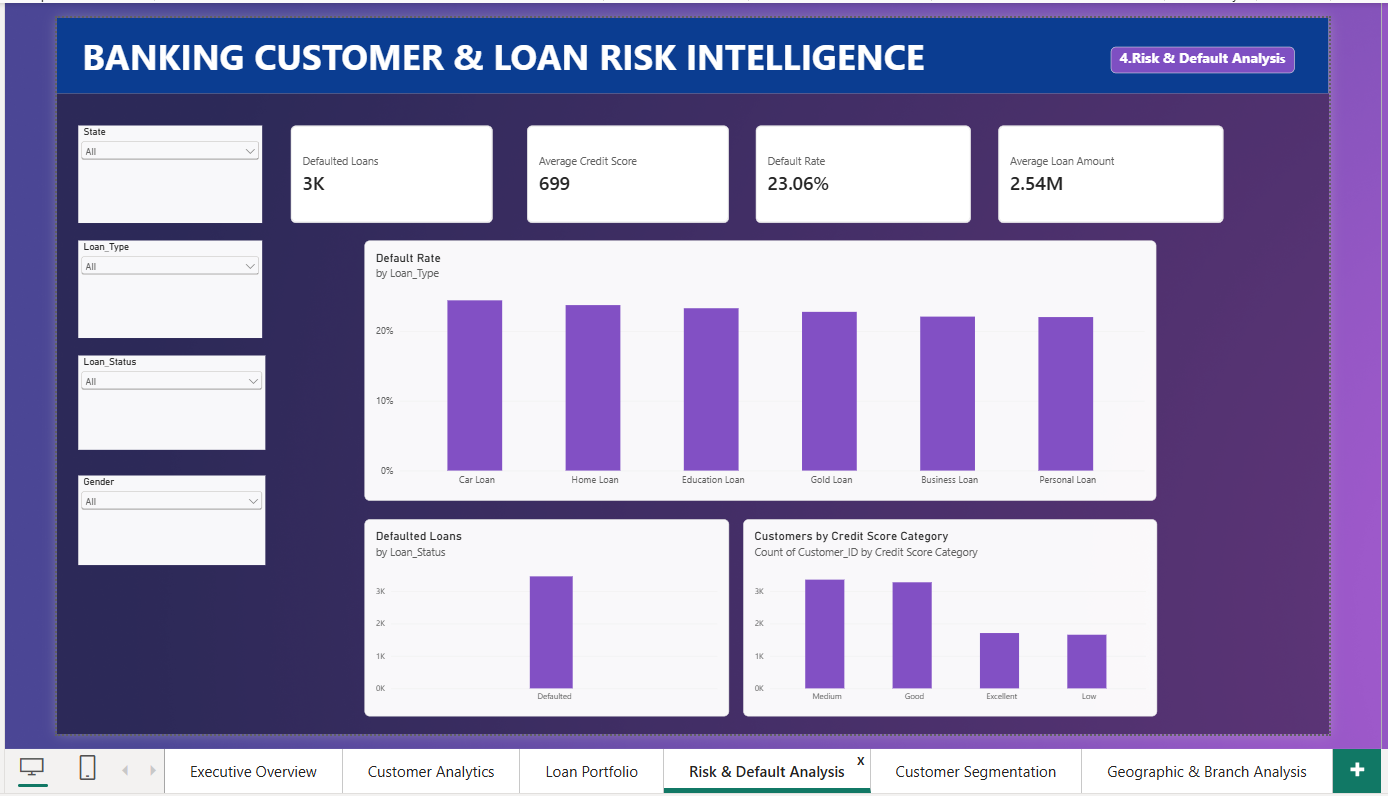

Layout of this report page (visuals, bound fields, positions):
{"tool":"powerbi","page":{"name":"Risk & Default Analysis","canvas":[1920,1080],"ordinal":3},"visuals":[{"type":"cardVisual","fields":{"Data":["loans.Defaulted Loans"]},"box":[352.5,162.5,305,147.5],"z":0},{"type":"cardVisual","fields":{"Data":["loans.Default Rate"]},"box":[1055,162.5,325,147.5],"z":1000},{"type":"cardVisual","fields":{"Data":["customers.Average Credit Score"]},"box":[710,162.5,305,147.5],"z":2000},{"type":"cardVisual","fields":{"Data":["loans.Average Loan Amount"]},"box":[1420,162.5,340,147.5],"z":3000},{"type":"columnChart","fields":{"Category":["loans.Loan_Type"],"Y":["loans.Default Rate"]},"box":[465,335,1195,392.5],"z":4000},{"type":"columnChart","fields":{"Category":["loans.Loan_Status"],"Y":["loans.Defaulted Loans"]},"box":[465,757.5,550,297.5],"z":5000},{"type":"columnChart","title":"Customers by Credit Score Category","fields":{"Category":["customers.Credit Score Category"],"Y":["CountNonNull(customers.Customer_ID)"]},"box":[1035,757.5,625,297.5],"z":6000},{"type":"slicer","fields":{"Values":["customers.State"]},"box":[32.5,162.5,277.5,147.5],"z":7000},{"type":"slicer","fields":{"Values":["loans.Loan_Type"]},"box":[32.5,335,277.5,147.5],"z":8000},{"type":"slicer","fields":{"Values":["loans.Loan_Status"]},"box":[32.5,510,282.5,142.5],"z":9000},{"type":"slicer","fields":{"Values":["customers.Gender"]},"box":[32.5,690,282.5,135],"z":10000},{"type":"shape","box":[0,0,1918.9,113.7],"z":11000},{"type":"textbox","box":[1590,42.5,277.5,40],"z":12000}]}

Visuals, with their boxes on the page's 1920x1080 design canvas (x1, y1, x2, y2). These are canvas units, not pixel positions in the 1388x796 screenshot, which may show the page scaled, cropped or inside an application window:
cardVisual - loans.Defaulted Loans: (x1=352, y1=162, x2=658, y2=310)
cardVisual - loans.Default Rate: (x1=1055, y1=162, x2=1380, y2=310)
cardVisual - customers.Average Credit Score: (x1=710, y1=162, x2=1015, y2=310)
cardVisual - loans.Average Loan Amount: (x1=1420, y1=162, x2=1760, y2=310)
columnChart - loans.Loan_Type x loans.Default Rate: (x1=465, y1=335, x2=1660, y2=728)
columnChart - loans.Loan_Status x loans.Defaulted Loans: (x1=465, y1=758, x2=1015, y2=1055)
"Customers by Credit Score Category" columnChart: (x1=1035, y1=758, x2=1660, y2=1055)
slicer - customers.State: (x1=32, y1=162, x2=310, y2=310)
slicer - loans.Loan_Type: (x1=32, y1=335, x2=310, y2=482)
slicer - loans.Loan_Status: (x1=32, y1=510, x2=315, y2=652)
slicer - customers.Gender: (x1=32, y1=690, x2=315, y2=825)
shape: (x1=0, y1=0, x2=1919, y2=114)
textbox: (x1=1590, y1=42, x2=1868, y2=82)
